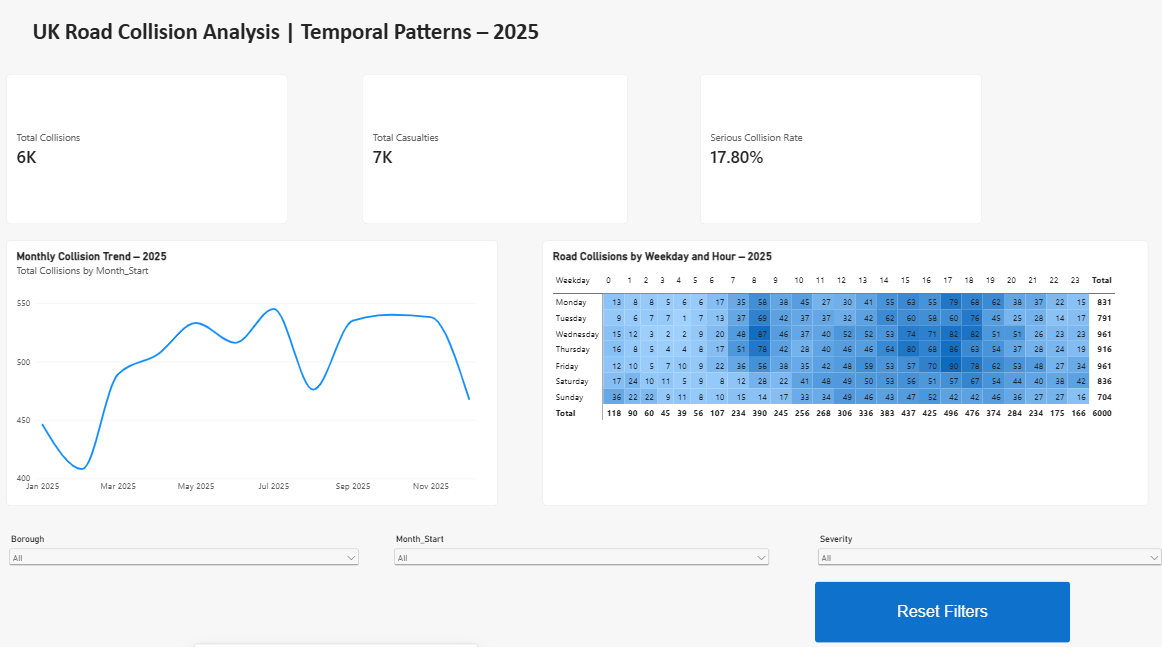

Layout of this report page (visuals, bound fields, positions):
{"tool":"powerbi","page":{"name":"Dashboard 2 – Time & Road Conditions","canvas":[1920,1080],"ordinal":7},"visuals":[{"type":"cardVisual","fields":{"Data":["UK_Project_Dataset.Total Collisions"]},"box":[10.9,122.5,463.7,247.2],"z":0},{"type":"cardVisual","fields":{"Data":["UK_Project_Dataset.Total Casualties"]},"box":[597.1,122.5,437.5,247.2],"z":1000},{"type":"cardVisual","fields":{"Data":["UK_Project_Dataset.Serious Collision Rate"]},"box":[1152.7,122.5,464,247],"z":2000},{"type":"lineChart","title":"Monthly Collision Trend – 2025","fields":{"Category":["UK_Project_Dataset.Month_Start"],"Y":["UK_Project_Dataset.Total Collisions"]},"box":[10.9,398.1,809.3,437.5],"z":3000},{"type":"pivotTable","title":"Road Collisions by Weekday and Hour – 2025","fields":{"Columns":["UK_Project_Dataset.Hour"],"Rows":["UK_Project_Dataset.Weekday"],"Values":["UK_Project_Dataset.Total Collisions"]},"box":[892.4,398.1,997.4,437.5],"z":4000},{"type":"slicer","fields":{"Values":["UK_Project_Dataset.Borough"]},"box":[10.9,881.5,586.2,157.5],"z":5000},{"type":"slicer","fields":{"Values":["UK_Project_Dataset.Month_Start"]},"box":[645.3,881.5,627.8,157.5],"z":6000},{"type":"slicer","fields":{"Values":["UK_Project_Dataset.Severity"]},"box":[1341.8,880.9,577.4,157.5],"z":7000},{"type":"textbox","box":[1616.4,157.5,288.7,30.6],"z":8000},{"type":"textbox","box":[1617,188,288,181],"z":9000},{"type":"textbox","box":[52.5,30.6,1852.6,61.2],"z":10000},{"type":"actionButton","box":[1341.8,960,420,100.9],"z":10001}]}

Visuals, with their boxes in screenshot pixels (x1, y1, x2, y2), scaled from the page's 1920x1080 canvas onto the 1162x648 screenshot:
cardVisual - UK_Project_Dataset.Total Collisions: rect(7, 74, 287, 222)
cardVisual - UK_Project_Dataset.Total Casualties: rect(361, 74, 626, 222)
cardVisual - UK_Project_Dataset.Serious Collision Rate: rect(698, 74, 978, 222)
"Monthly Collision Trend – 2025" lineChart: rect(7, 239, 496, 501)
"Road Collisions by Weekday and Hour – 2025" pivotTable: rect(540, 239, 1144, 501)
slicer - UK_Project_Dataset.Borough: rect(7, 529, 361, 623)
slicer - UK_Project_Dataset.Month_Start: rect(391, 529, 770, 623)
slicer - UK_Project_Dataset.Severity: rect(812, 529, 1161, 623)
textbox: rect(978, 94, 1153, 113)
textbox: rect(979, 113, 1153, 221)
textbox: rect(32, 18, 1153, 55)
actionButton: rect(812, 576, 1066, 637)
